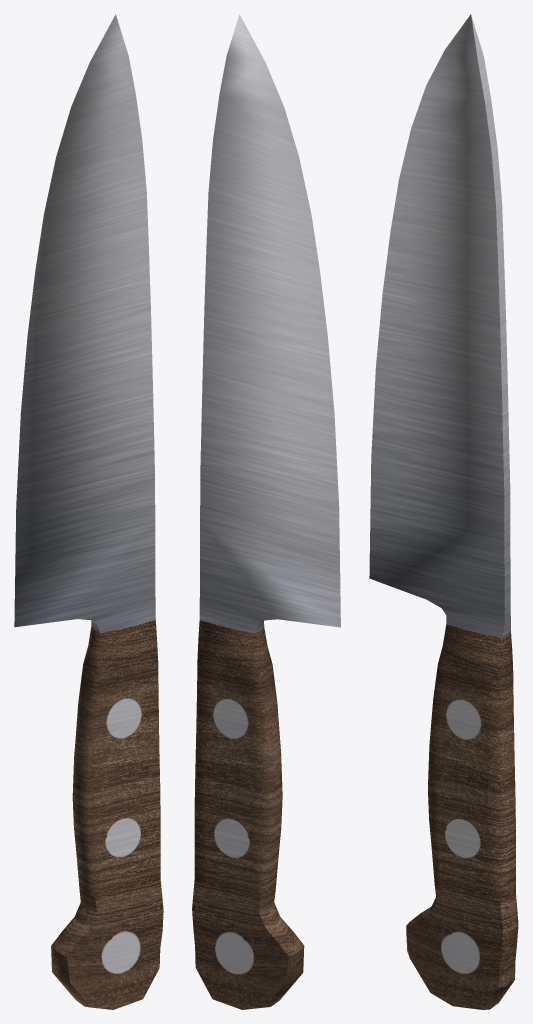
The model's file is Knife_All.fbx.
The picture shows the model from 3 angles, left to right: view 1: azimuth 30°, elevation 25°; view 2: azimuth 150°, elevation 25°; view 3: azimuth 330°, elevation 25°; orthographic projection.
Visible parts, largest first — view 1: Cylinder002; view 2: Cylinder002; view 3: Cylinder002.
Boxes of the visible parts, x1,y1,x2,y2 form: Cylinder002: (14, 14, 163, 1009); Cylinder002: (192, 14, 340, 1009); Cylinder002: (369, 14, 518, 1009).
Size of the model in its own units: 2.52 by 16.37 by 0.4604.
